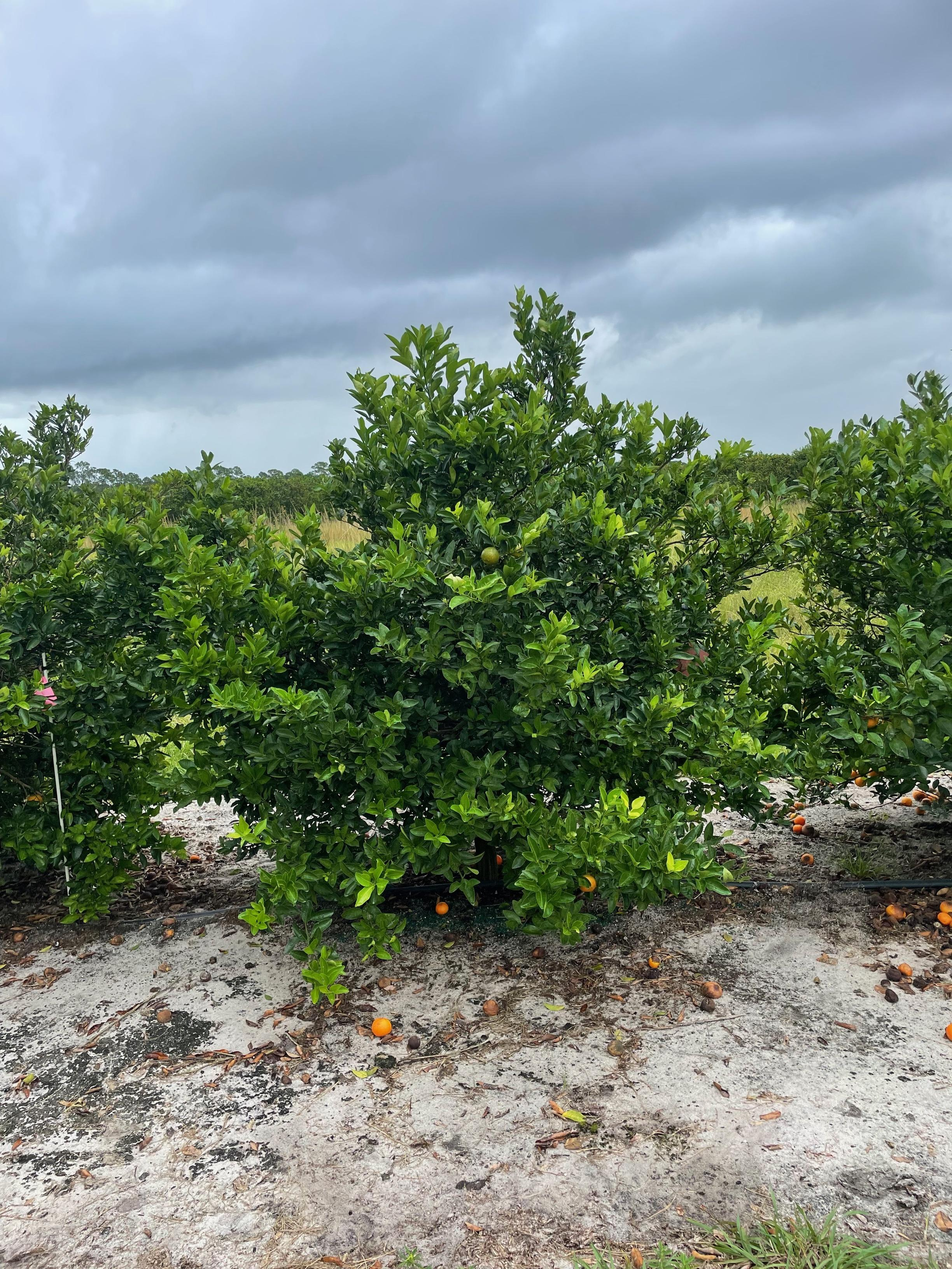fruit_on_ground: (479, 545, 501, 566), (576, 873, 598, 894), (505, 540, 526, 560), (861, 710, 880, 729), (24, 792, 44, 808)
fruit_on_tree: (369, 1014, 393, 1037), (700, 979, 724, 1000), (480, 996, 502, 1018), (884, 901, 908, 920), (154, 1006, 173, 1024), (406, 1034, 424, 1051), (896, 960, 914, 977), (434, 898, 451, 916), (698, 998, 717, 1014), (883, 987, 900, 1003), (10, 929, 28, 944), (942, 1018, 952, 1045), (108, 932, 125, 947), (799, 850, 816, 865), (530, 945, 546, 960), (937, 911, 952, 926), (937, 898, 951, 914), (646, 954, 662, 968), (492, 851, 506, 866), (801, 824, 816, 838), (791, 822, 805, 836), (792, 799, 807, 811), (913, 789, 927, 801), (928, 792, 941, 804), (900, 793, 913, 805), (188, 853, 202, 863), (793, 815, 807, 825), (859, 829, 871, 840), (847, 767, 858, 779), (866, 766, 878, 777), (855, 776, 866, 787), (914, 805, 926, 815), (850, 799, 861, 809)
